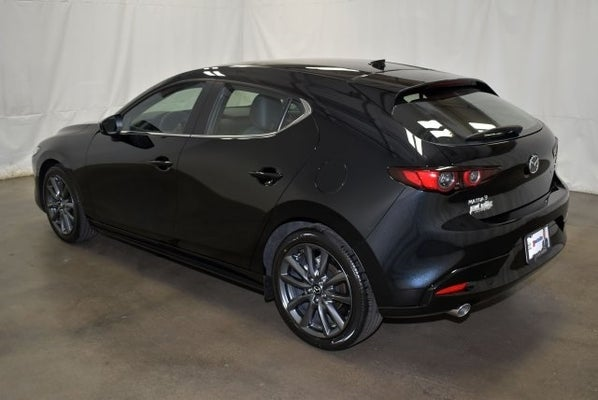Mazda3 Hatchback: (30, 57, 571, 353)
